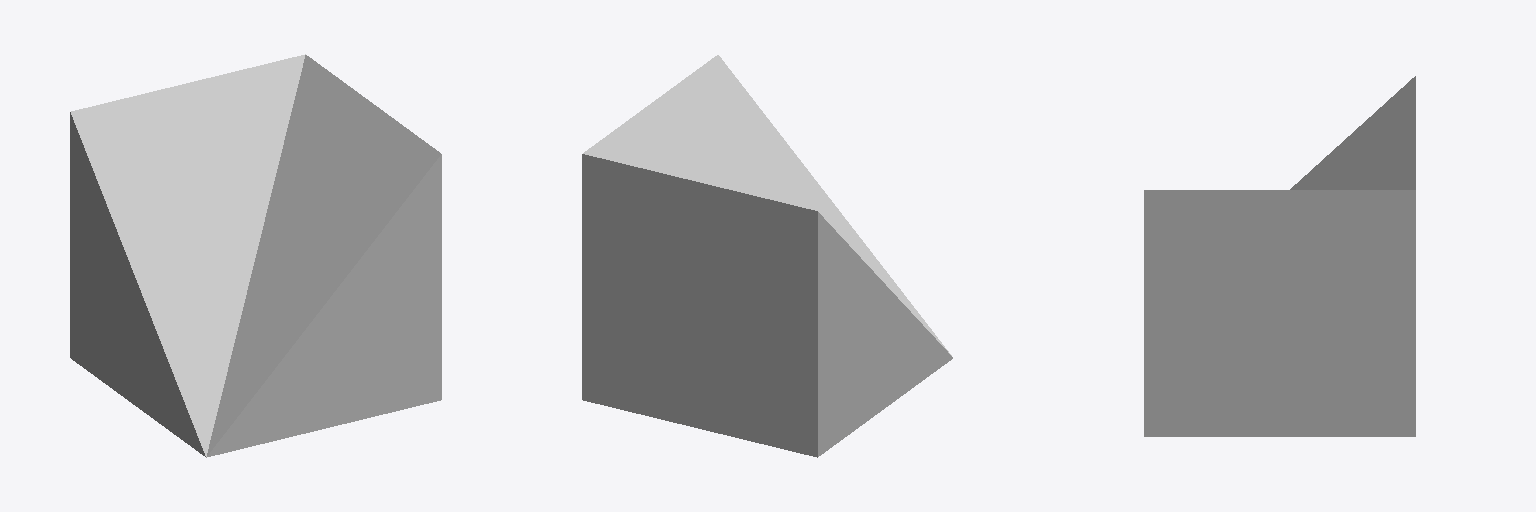
File: RampCornerInverted.obj
The picture shows the model from 3 angles: view 1: azimuth 30°, elevation 25°; view 2: azimuth 150°, elevation 25°; view 3: azimuth 270°, elevation 25°; orthographic projection.
Visible parts, largest first — view 1: RampCornerInverted; view 2: RampCornerInverted; view 3: RampCornerInverted.
Part boxes in pixels (left/top/right/bottom): RampCornerInverted: left=70, top=54, right=441, bottom=457; RampCornerInverted: left=582, top=55, right=952, bottom=457; RampCornerInverted: left=1144, top=76, right=1415, bottom=436.
Size of the model in its own units: 1 by 1 by 1.